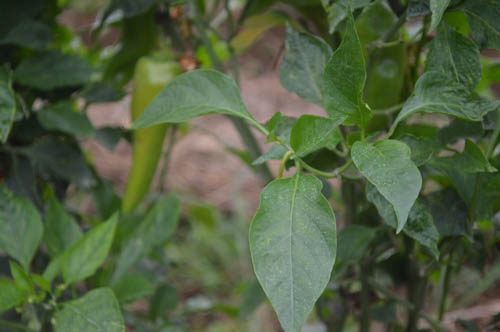ChiliPepper: (123, 57, 177, 218), (352, 13, 411, 126)
